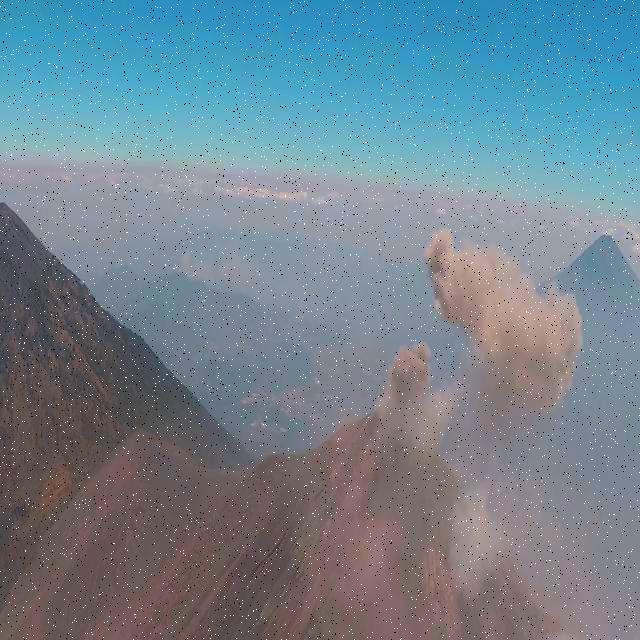Plume: (428, 221, 585, 436), (388, 338, 436, 418)
Summit: (280, 407, 539, 628)
